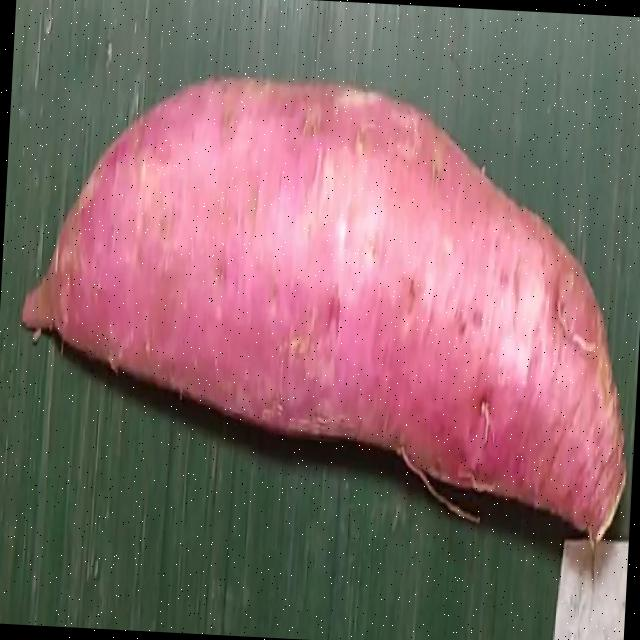Sweet Potato: (21, 75, 629, 539)
